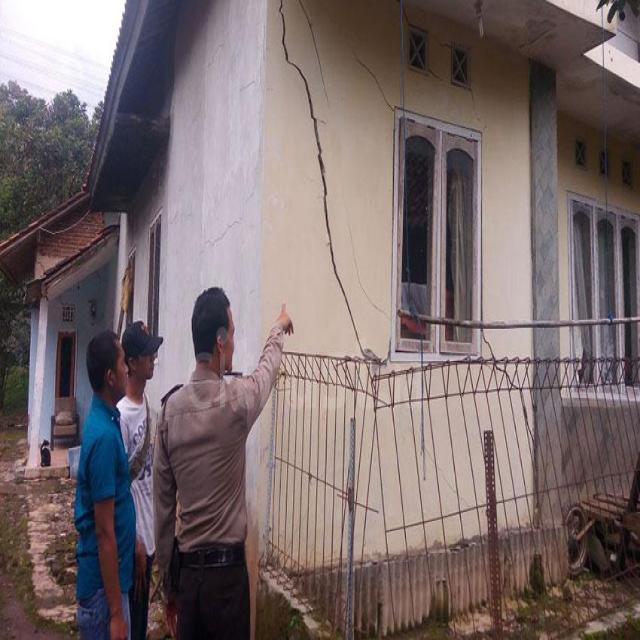crack: (275, 0, 385, 375)
